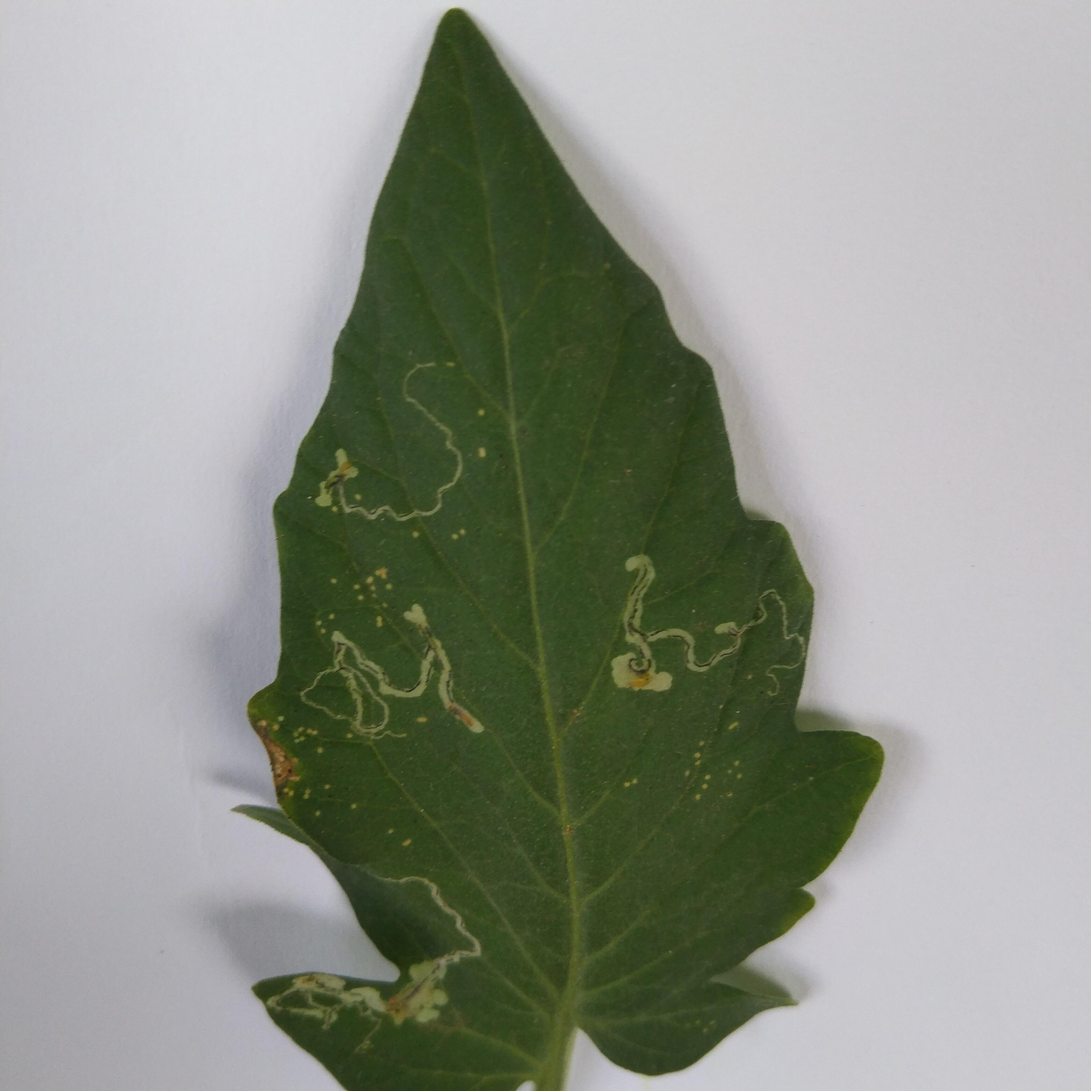Leaf_Miner: (241, 3, 881, 1091)
